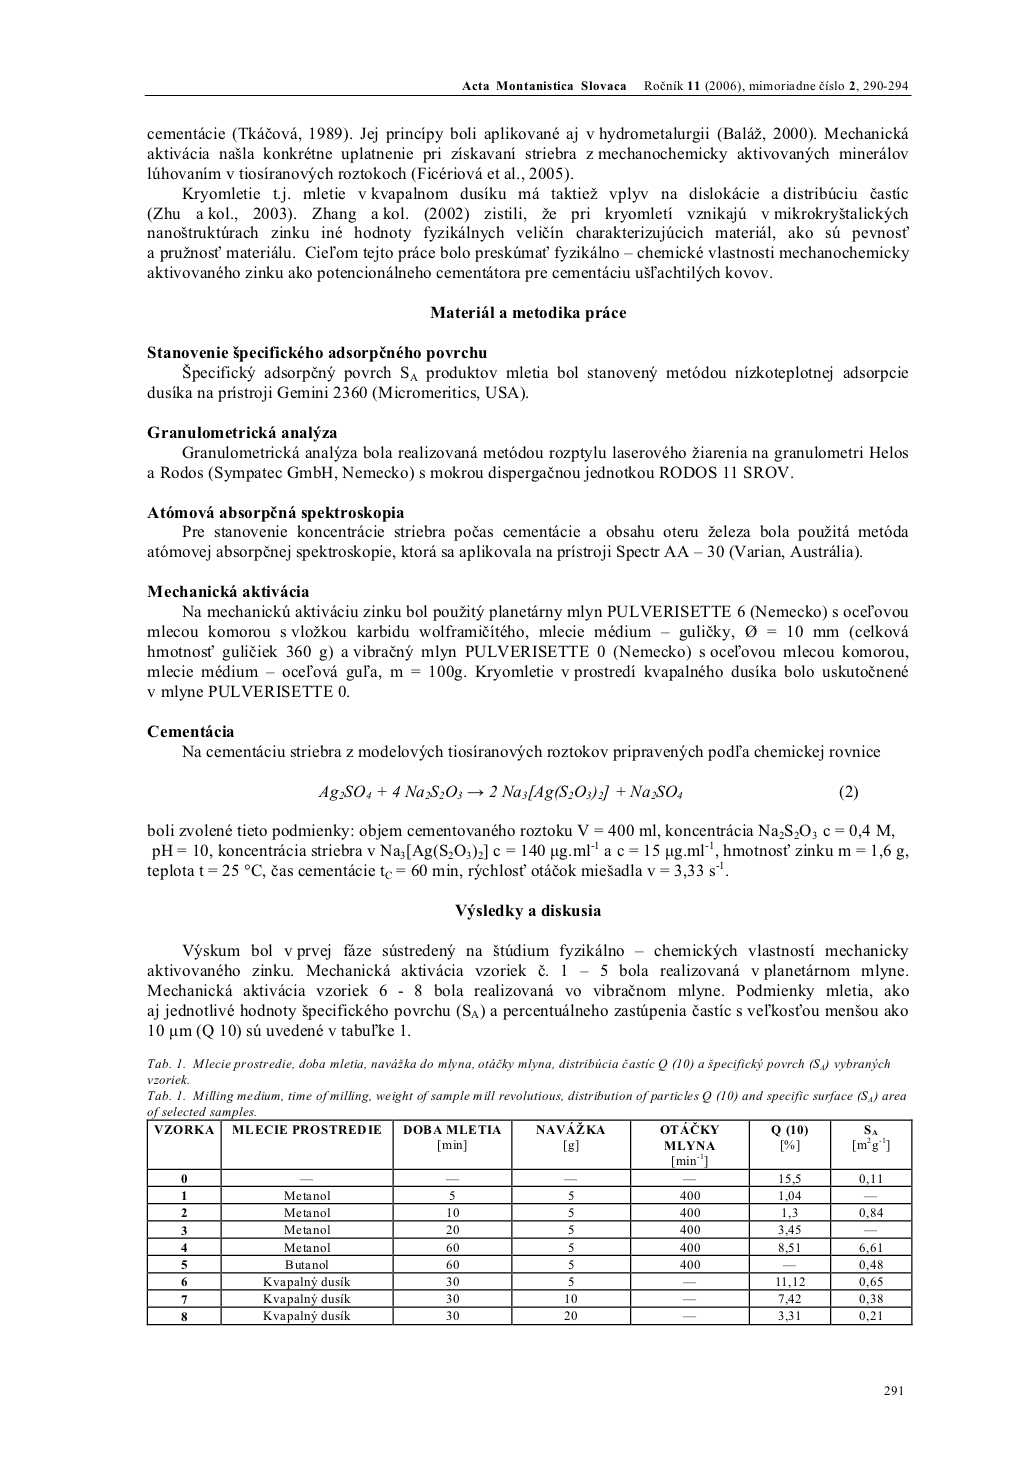Table: (146, 1105, 912, 1326)
formula: (318, 784, 857, 801)
